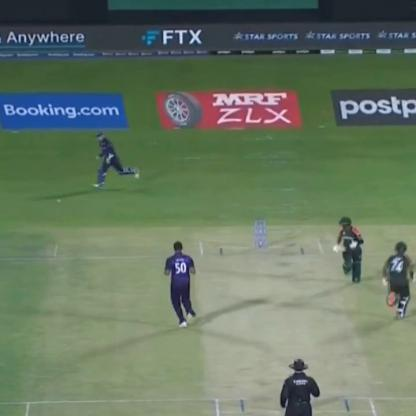ball: (50, 192, 65, 206)
bat: (173, 219, 388, 415)
